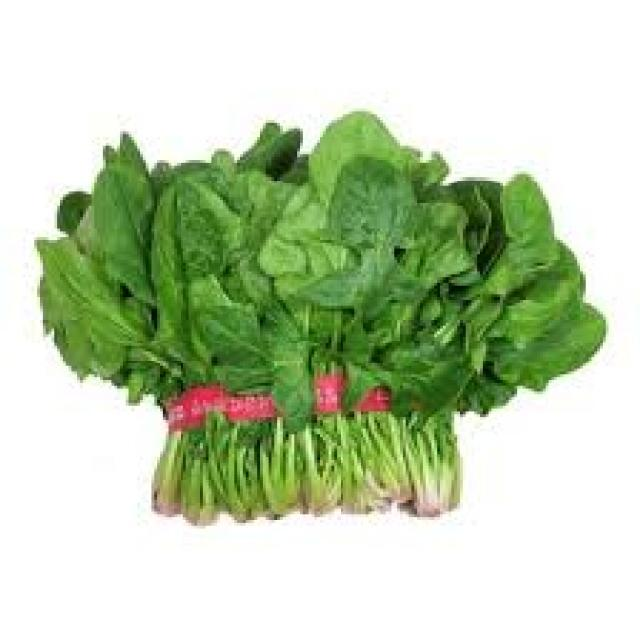spinach: (37, 111, 609, 524)
